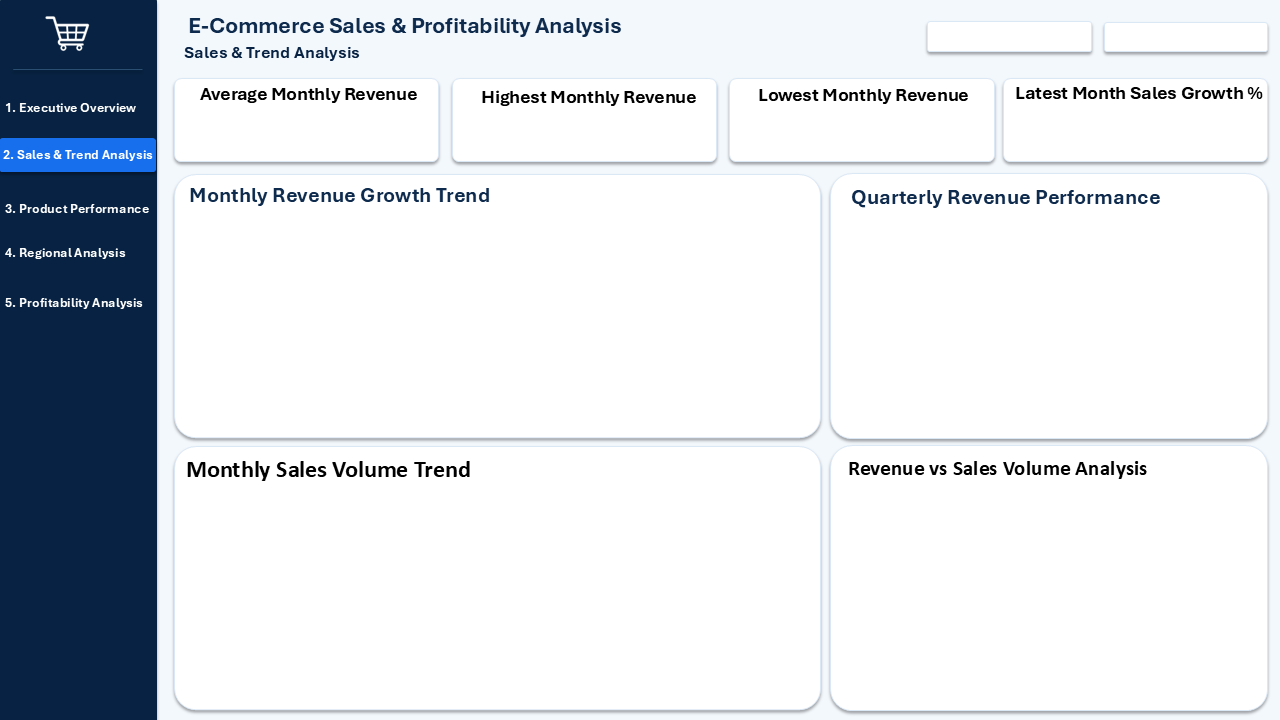

The dashboard page shown, as its layout file describes it:
{"tool":"powerbi","page":{"name":"Sales and Trend Analysis","canvas":[1280,720],"ordinal":1},"visuals":[{"type":"cardVisual","fields":{"Data":["ecommerce_sales_db salesdata.Average Monthly Revenue"]},"box":[159,74.2,268,95.4],"z":0},{"type":"cardVisual","fields":{"Data":["ecommerce_sales_db salesdata.Highest Monthly Revenue"]},"box":[457.3,72.7,257.4,90.9],"z":1000},{"type":"cardVisual","fields":{"Data":["ecommerce_sales_db salesdata.Lowest Monthly Revenue"]},"box":[728.3,72.7,258.9,90.9],"z":2000},{"type":"cardVisual","fields":{"Data":["ecommerce_sales_db salesdata.Latest Month Sales Growth %"]},"box":[987.3,71.2,281.6,98.4],"z":3000},{"type":"slicer","fields":{"Values":["Date Table.Date.Variation.Date Hierarchy.Year"]},"box":[1100.7,12.4,179.1,39.9],"z":4000},{"type":"slicer","fields":{"Values":["ecommerce_sales_db salesdata.Region"]},"box":[914.7,12.4,186,53.7],"z":5000},{"type":"clusteredColumnChart","title":"Monthly Revenue Growth Trend","fields":{"Y":["ecommerce_sales_db salesdata.Sales MoM Growth %"],"Category":["Date Table.Month Start.Variation.Date Hierarchy.Month"]},"box":[171.1,175.6,652.6,257.4],"z":6000},{"type":"clusteredColumnChart","title":"Quarterly Revenue Performance","fields":{"Category":["Date Table.Date.Variation.Date Hierarchy.Quarter"],"Y":["ecommerce_sales_db salesdata.Total Sales"]},"box":[829.8,175.6,445.2,257.4],"z":7000},{"type":"areaChart","title":"Monthly Product Demand Trend","fields":{"Category":["Date Table.Month Start.Variation.Date Hierarchy.Year","Date Table.Month Start.Variation.Date Hierarchy.Quarter","Date Table.Month Start.Variation.Date Hierarchy.Month","Date Table.Month Start.Variation.Date Hierarchy.Day"],"Y":["ecommerce_sales_db salesdata.Total Quantity"]},"box":[181.7,448.2,631.4,252.9],"z":8000},{"type":"lineClusteredColumnComboChart","title":"Annual  Sales Volume Comparison","fields":{"Category":["Date Table.Month Start.Variation.Date Hierarchy.Year","Date Table.Month Start.Variation.Date Hierarchy.Quarter","Date Table.Month Start.Variation.Date Hierarchy.Month","Date Table.Month Start.Variation.Date Hierarchy.Day"],"Y":["ecommerce_sales_db salesdata.Total Sales"],"Y2":["ecommerce_sales_db salesdata.Total Quantity"]},"box":[837.4,448.2,427,271],"z":9000},{"type":"textbox","box":[170.8,0,512.5,41.3],"z":10000},{"type":"textbox","box":[170.8,26.2,212.1,41.3],"z":11000},{"type":"textbox","box":[0,136.4,158.4,48.2],"z":12000},{"type":"textbox","box":[0,176.3,158.4,48.2],"z":13000},{"type":"textbox","box":[0,224.5,195.6,48.2],"z":14000},{"type":"textbox","box":[0,272.8,195.6,48.2],"z":15000},{"type":"textbox","box":[0,88.2,158.4,48.2],"z":16000}]}

Visuals, with their boxes on the page's 1280x720 design canvas (x1, y1, x2, y2). These are canvas units, not pixel positions in the 1280x720 screenshot, which may show the page scaled, cropped or inside an application window:
cardVisual - ecommerce_sales_db salesdata.Average Monthly Revenue: pyautogui.locateOnScreen(159, 74, 427, 170)
cardVisual - ecommerce_sales_db salesdata.Highest Monthly Revenue: pyautogui.locateOnScreen(457, 73, 715, 164)
cardVisual - ecommerce_sales_db salesdata.Lowest Monthly Revenue: pyautogui.locateOnScreen(728, 73, 987, 164)
cardVisual - ecommerce_sales_db salesdata.Latest Month Sales Growth %: pyautogui.locateOnScreen(987, 71, 1269, 170)
slicer - Date Table.Date.Variation.Date Hierarchy.Year: pyautogui.locateOnScreen(1101, 12, 1280, 52)
slicer - ecommerce_sales_db salesdata.Region: pyautogui.locateOnScreen(915, 12, 1101, 66)
"Monthly Revenue Growth Trend" clusteredColumnChart: pyautogui.locateOnScreen(171, 176, 824, 433)
"Quarterly Revenue Performance" clusteredColumnChart: pyautogui.locateOnScreen(830, 176, 1275, 433)
"Monthly Product Demand Trend" areaChart: pyautogui.locateOnScreen(182, 448, 813, 701)
"Annual  Sales Volume Comparison" lineClusteredColumnComboChart: pyautogui.locateOnScreen(837, 448, 1264, 719)
textbox: pyautogui.locateOnScreen(171, 0, 683, 41)
textbox: pyautogui.locateOnScreen(171, 26, 383, 68)
textbox: pyautogui.locateOnScreen(0, 136, 158, 185)
textbox: pyautogui.locateOnScreen(0, 176, 158, 224)
textbox: pyautogui.locateOnScreen(0, 224, 196, 273)
textbox: pyautogui.locateOnScreen(0, 273, 196, 321)
textbox: pyautogui.locateOnScreen(0, 88, 158, 136)
